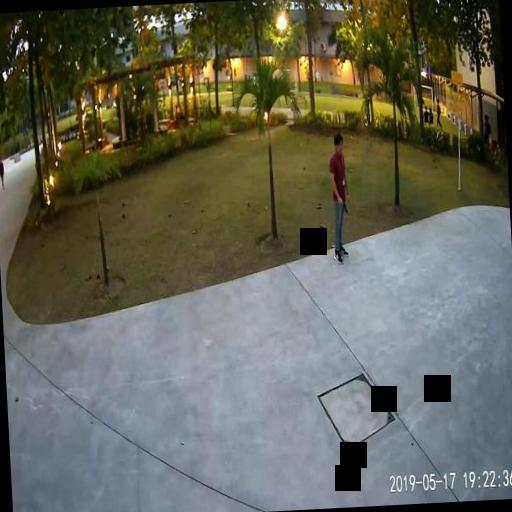Handgun: (337, 196, 346, 214)
